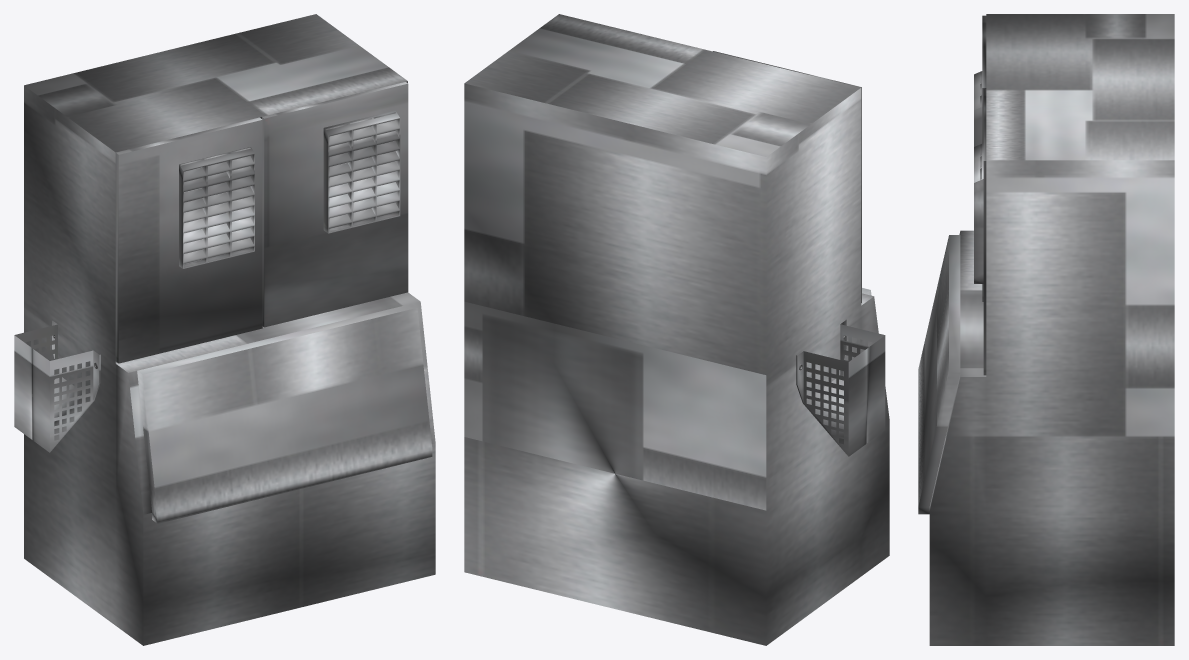
File: ice_machine.fbx
The picture shows the model from 3 angles, left to right: view 1: azimuth 30°, elevation 25°; view 2: azimuth 150°, elevation 25°; view 3: azimuth 270°, elevation 25°; orthographic projection. The views are drawn at different scales.
Visible parts, largest first — view 1: ice_machine; view 2: ice_machine; view 3: ice_machine.
Part boxes in pixels (bbox=[...]): ice_machine: bbox=[14, 14, 435, 645]; ice_machine: bbox=[464, 14, 889, 645]; ice_machine: bbox=[918, 14, 1174, 645].
Size of the model in its own units: 5.14 by 6.9 by 3.3.
